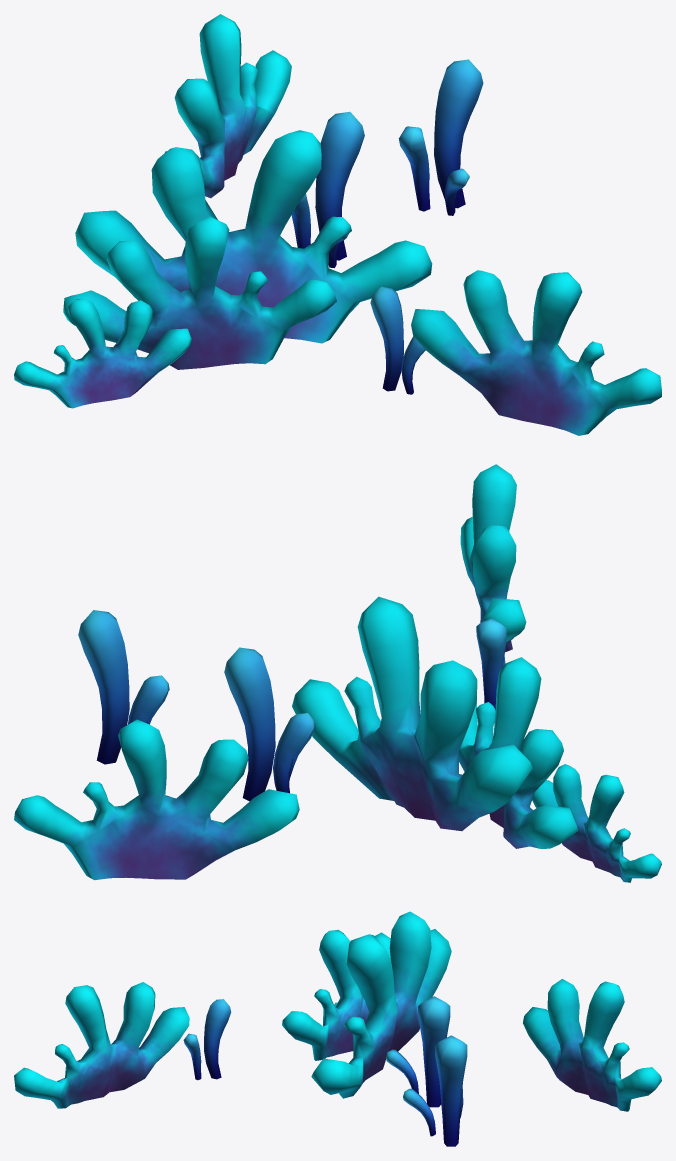
File: Cartoon Seaweed_13-2-32.fbx
3 views of the same model, one above another, from view 1: azimuth 30°, elevation 25°; view 2: azimuth 150°, elevation 25°; view 3: azimuth 270°, elevation 25° (orthographic). The views are drawn at different scales.
Visible parts, largest first — view 1: Cartoon Seaweed_13.2.32; view 2: Cartoon Seaweed_13.2.32; view 3: Cartoon Seaweed_13.2.32.
Part boxes in pixels (left/top/right/bottom): Cartoon Seaweed_13.2.32: left=14, top=14, right=661, bottom=435; Cartoon Seaweed_13.2.32: left=14, top=464, right=661, bottom=882; Cartoon Seaweed_13.2.32: left=14, top=911, right=661, bottom=1146.
Bounding box in the file's own units: 27.5 × 11.16 × 39.35.
Materials: 1 (1 with a texture image).
